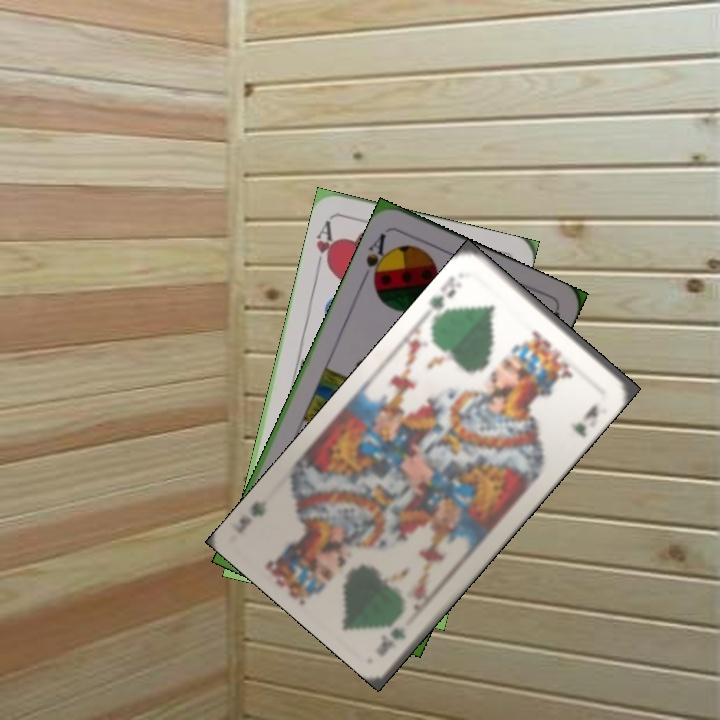GK: (425, 272, 459, 321), (372, 623, 409, 659)
HA: (311, 216, 340, 274)
SA: (358, 229, 394, 288)
